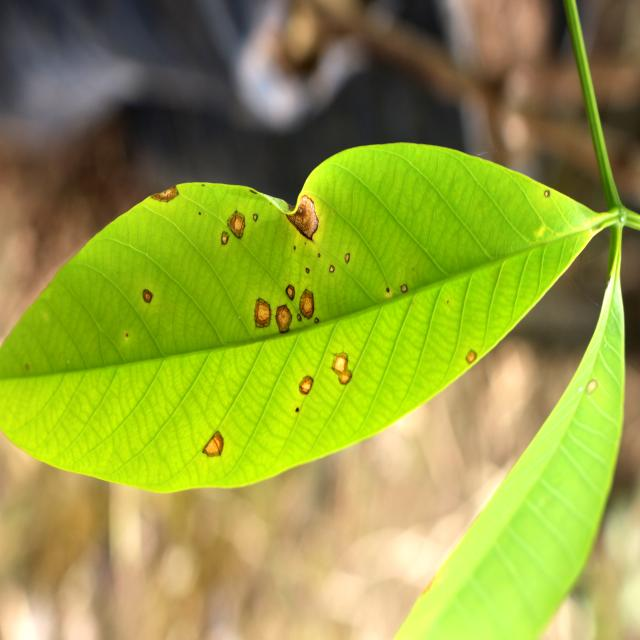Colletotrichum: (331, 350, 353, 385), (254, 297, 272, 329), (202, 432, 224, 458), (299, 288, 315, 319), (228, 210, 245, 239), (150, 185, 179, 202), (276, 304, 292, 334), (298, 376, 314, 394), (586, 379, 598, 394), (466, 349, 477, 364), (143, 289, 153, 304), (286, 284, 295, 300), (221, 231, 229, 245), (401, 284, 408, 293), (345, 253, 350, 264), (329, 264, 335, 272), (544, 190, 550, 198), (253, 214, 258, 222), (297, 313, 301, 321), (314, 317, 319, 323), (386, 287, 390, 294), (306, 268, 310, 274), (295, 407, 299, 412), (293, 246, 296, 250), (318, 253, 320, 258), (199, 212, 201, 215)
